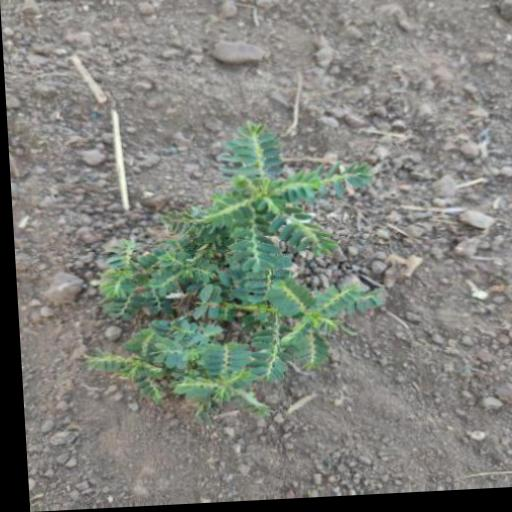weed: (73, 118, 427, 435)
